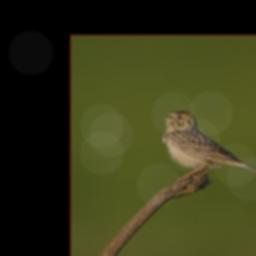Sparrow: (162, 109, 256, 183)
